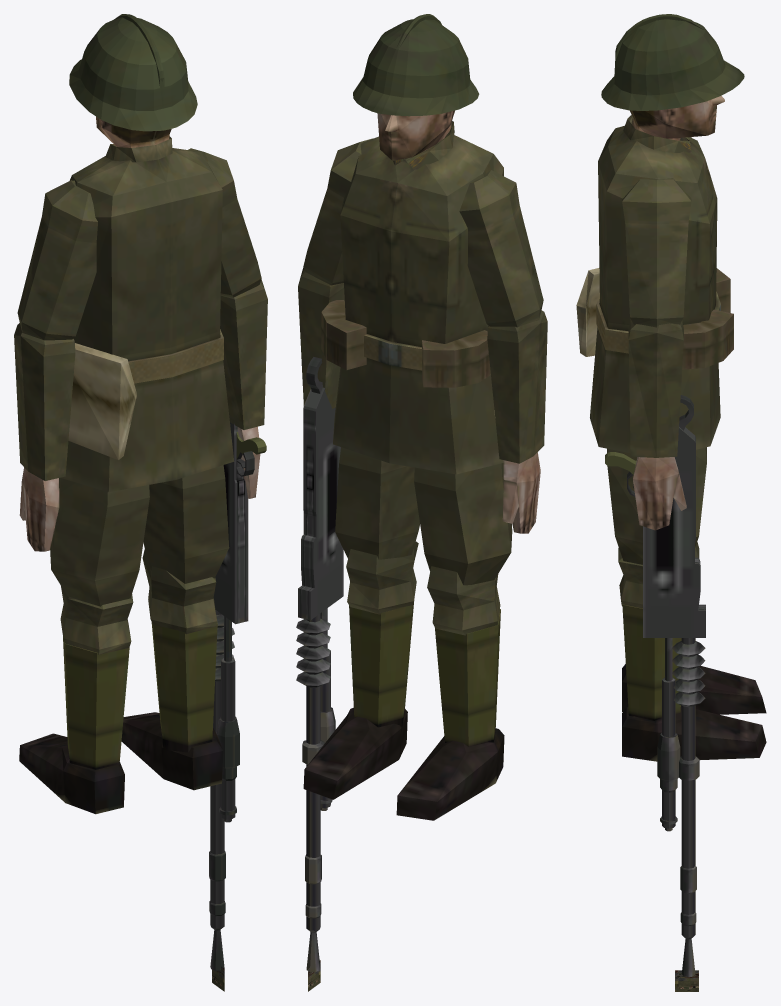
The model's file is us_mg_team.glb.
The picture shows the model from 3 angles, left to right: view 1: azimuth 30°, elevation 25°; view 2: azimuth 150°, elevation 25°; view 3: azimuth 270°, elevation 25°; orthographic projection. The views are drawn at different scales.
Visible parts, largest first — view 1: torso, head, gun, rleg, lleg, lloarm, lthigh, luparm, rthigh, rloarm, lfoot, rfoot (+1 smaller); view 2: torso, gun, head, lleg, rleg, lloarm, lthigh, luparm, rthigh, lfoot, rfoot, ruparm (+1 smaller); view 3: torso, gun, head, rloarm, ruparm, rleg, rfoot, rthigh, lfoot, flare.
Boxes of the visible parts, x1,y1,x2,y2 form: torso: (60,136,234,492); head: (69,14,197,147); gun: (209,422,266,970); rleg: (142,549,217,752); lleg: (60,586,133,769); lloarm: (14,323,75,551); lthigh: (50,478,149,606); luparm: (17,180,97,340); rthigh: (143,465,229,583); rloarm: (220,279,267,498); lfoot: (19,733,124,814); rfoot: (121,712,223,790); torso: (321,121,503,474); gun: (296,357,343,971); head: (353,14,479,160); lleg: (427,566,500,746); rleg: (346,541,418,728); lloarm: (487,310,547,533); lthigh: (414,463,512,585); luparm: (459,170,543,327); rthigh: (335,447,419,559); lfoot: (396,728,504,820); rfoot: (303,708,407,799); ruparm: (303,138,372,285); torso: (576,115,733,453); gun: (605,395,705,976); head: (601,14,744,140); rloarm: (628,319,686,530); ruparm: (622,178,691,327); rleg: (618,542,699,720); rfoot: (622,705,766,761); rthigh: (607,447,706,564); lfoot: (622,664,766,714); flare: (675,970,698,991).
Bounding box in the file's own units: 0.4509 × 1.8 × 0.3316.
1 material, 1 textured.
